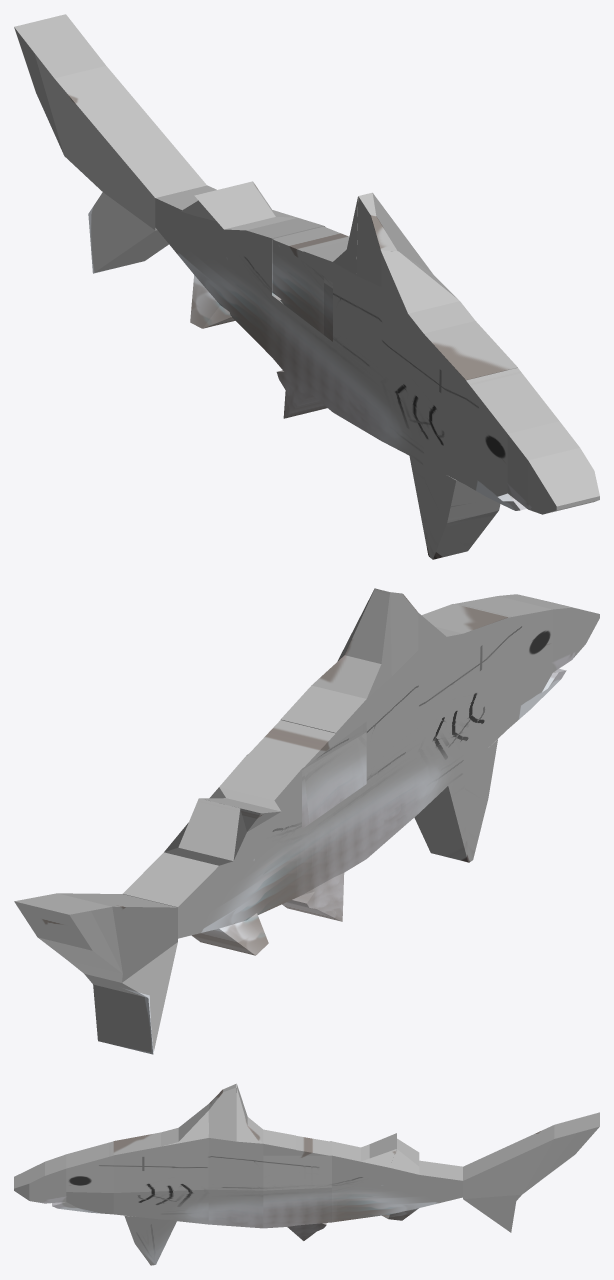
File: greatWhiteShark.glb
3 views of the same model, one above another, from view 1: azimuth 30°, elevation 25°; view 2: azimuth 150°, elevation 25°; view 3: azimuth 270°, elevation 25° (orthographic). The views are drawn at different scales.
Visible parts, largest first — view 1: Plane; view 2: Plane; view 3: Plane.
Boxes of the visible parts, box(x1,y1,x2,y2) form: Plane: box(14, 14, 599, 559); Plane: box(14, 588, 599, 1054); Plane: box(14, 1083, 599, 1265).
Size of the model in its own units: 0.4066 by 1.52 by 4.67.
1 material, 1 textured.
